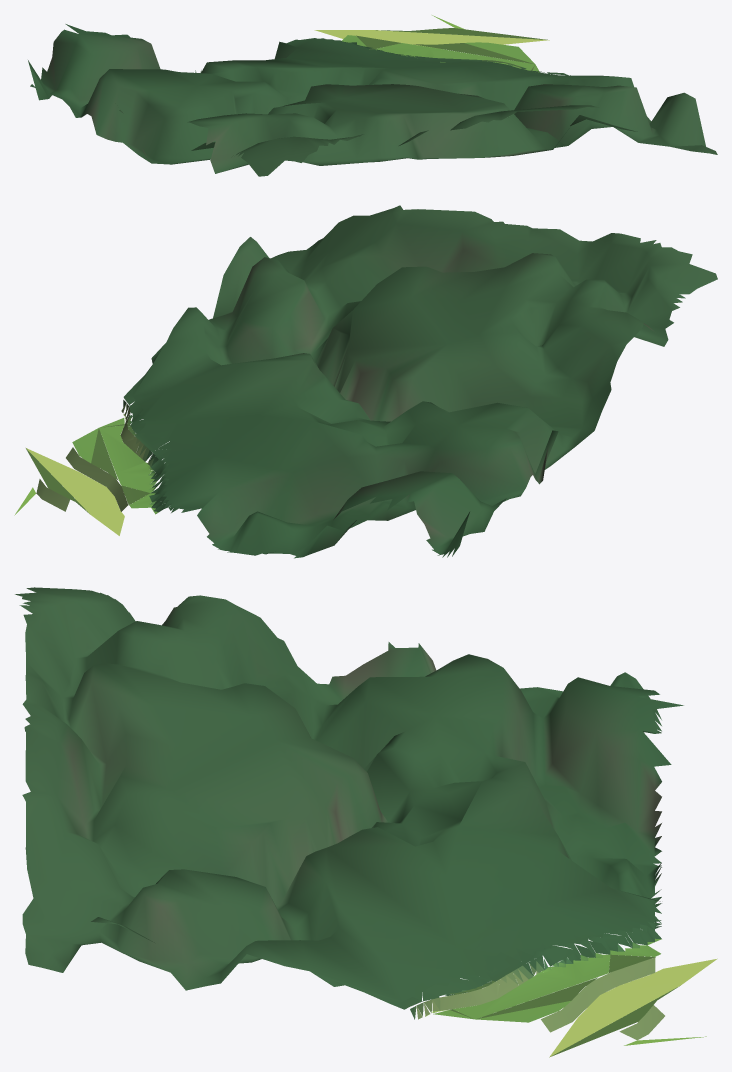
File: payo_land_xm3_y8_lod2.glb
3 renders of one model, top to bottom at view 1: azimuth 30°, elevation 25°; view 2: azimuth 150°, elevation 25°; view 3: azimuth 270°, elevation 25°, orthographic. The views are drawn at different scales.
Parts seen in each view (by area): view 1: payo_land_xm3_y8; view 2: payo_land_xm3_y8; view 3: payo_land_xm3_y8.
Part boxes in pixels (x1,y1,x2,y2): payo_land_xm3_y8: (28, 15, 717, 176); payo_land_xm3_y8: (14, 205, 717, 558); payo_land_xm3_y8: (15, 587, 717, 1057).
Size of the model in its own units: 286 by 95.17 by 285.
